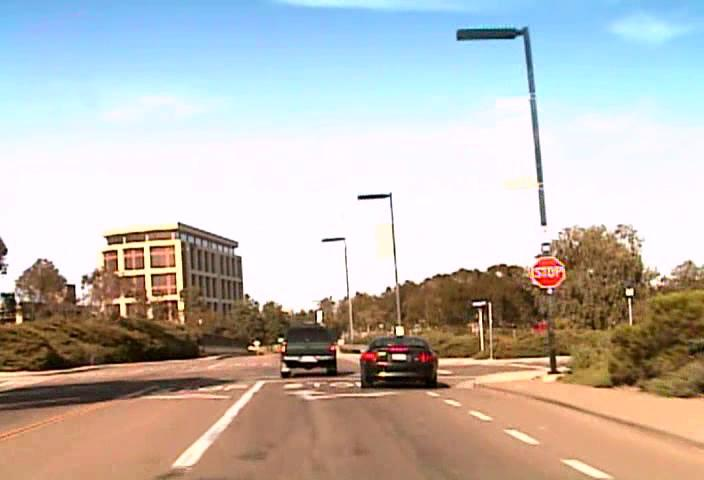stop: (531, 256, 565, 288)
